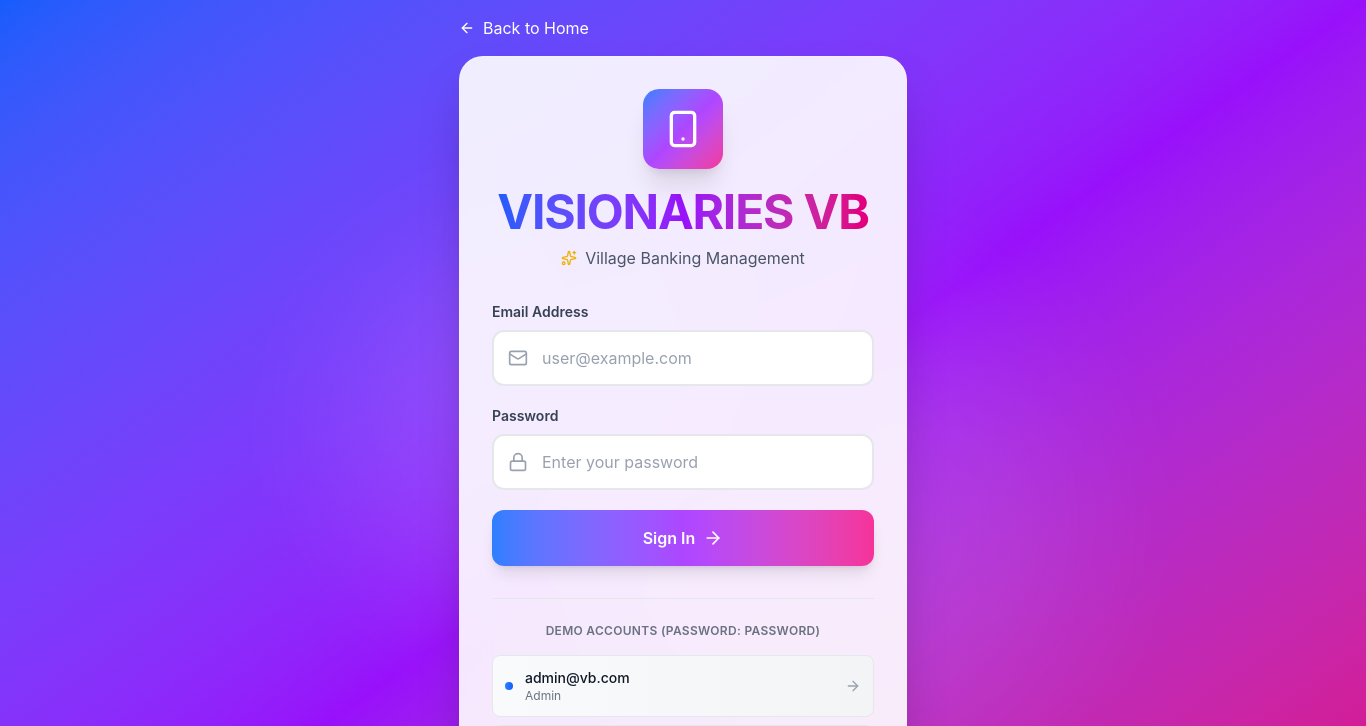
Test: Login page › shows loading state while submitting
Type "a@b.com" into the field with placeholder "user@example.com" at x=683, y=358, box [492, 330, 874, 386]
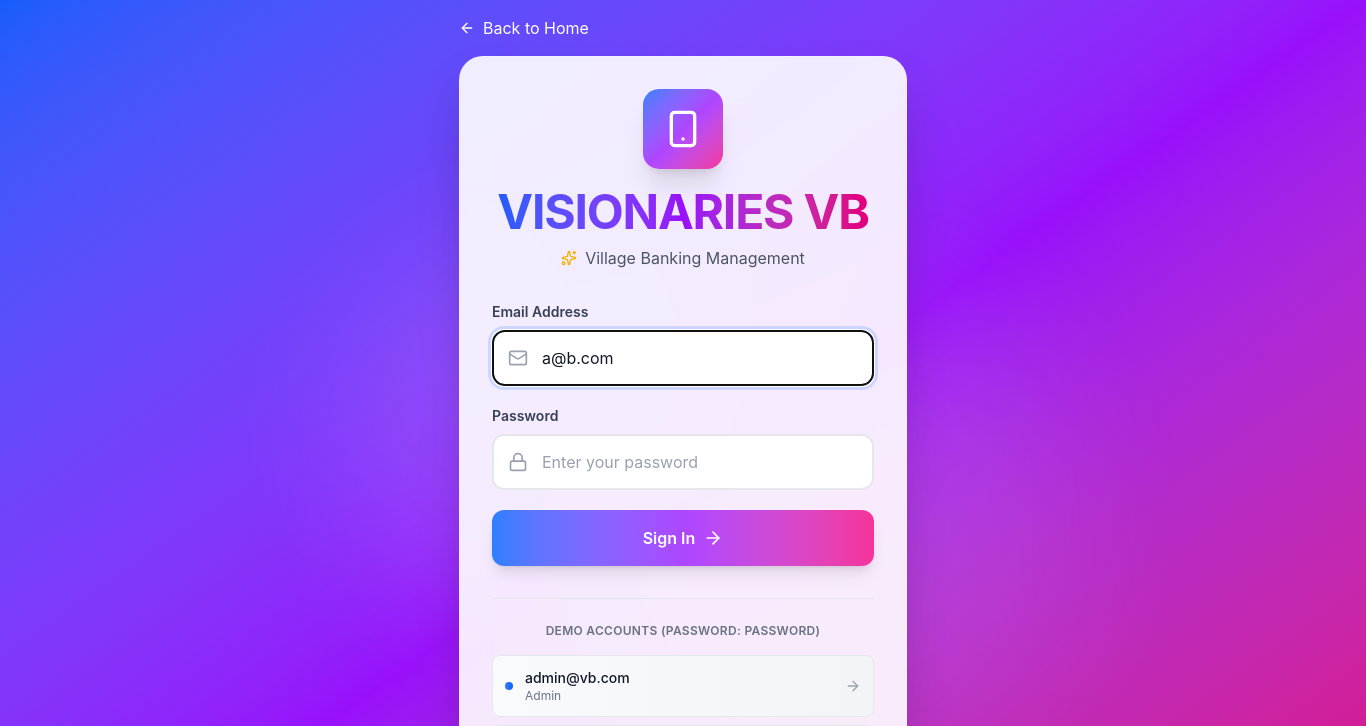
Type "pass1234" into the password field with placeholder "Enter your password" at x=683, y=462, box [492, 434, 874, 490]
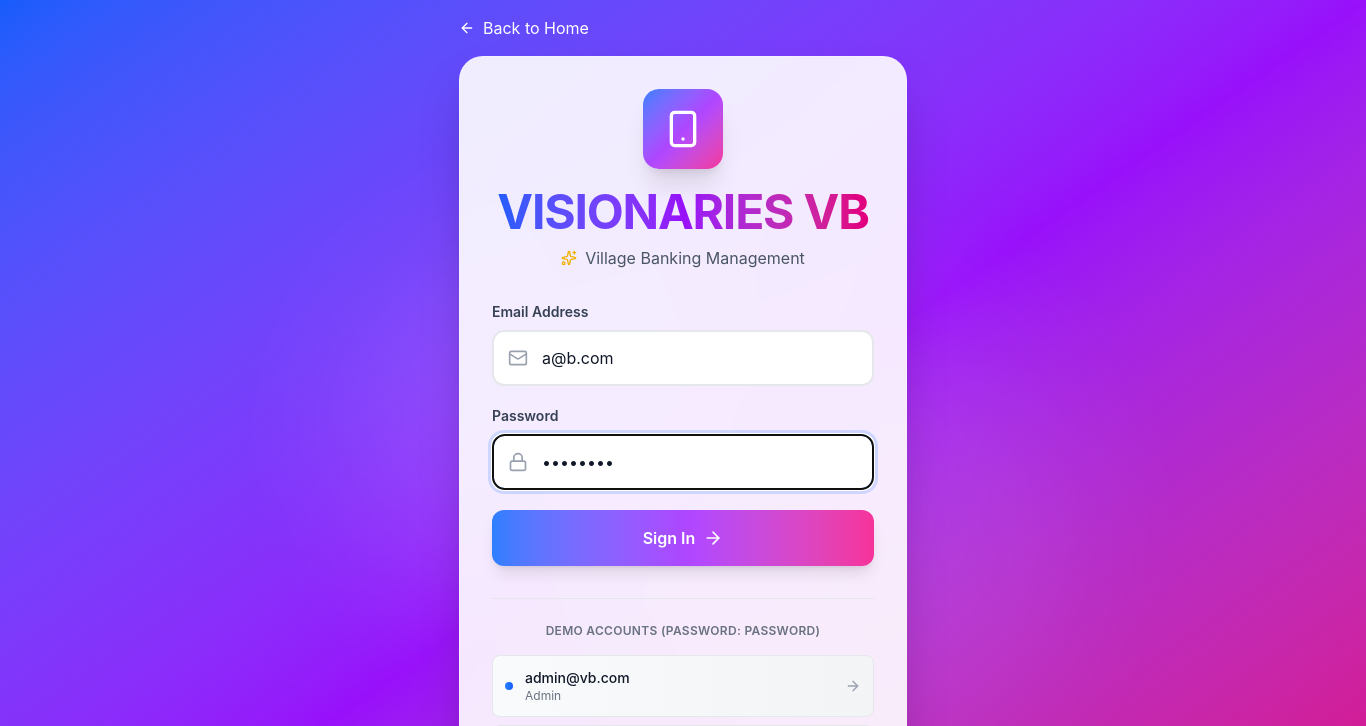
Click the button "Sign In" at x=683, y=538, box [492, 510, 874, 566]
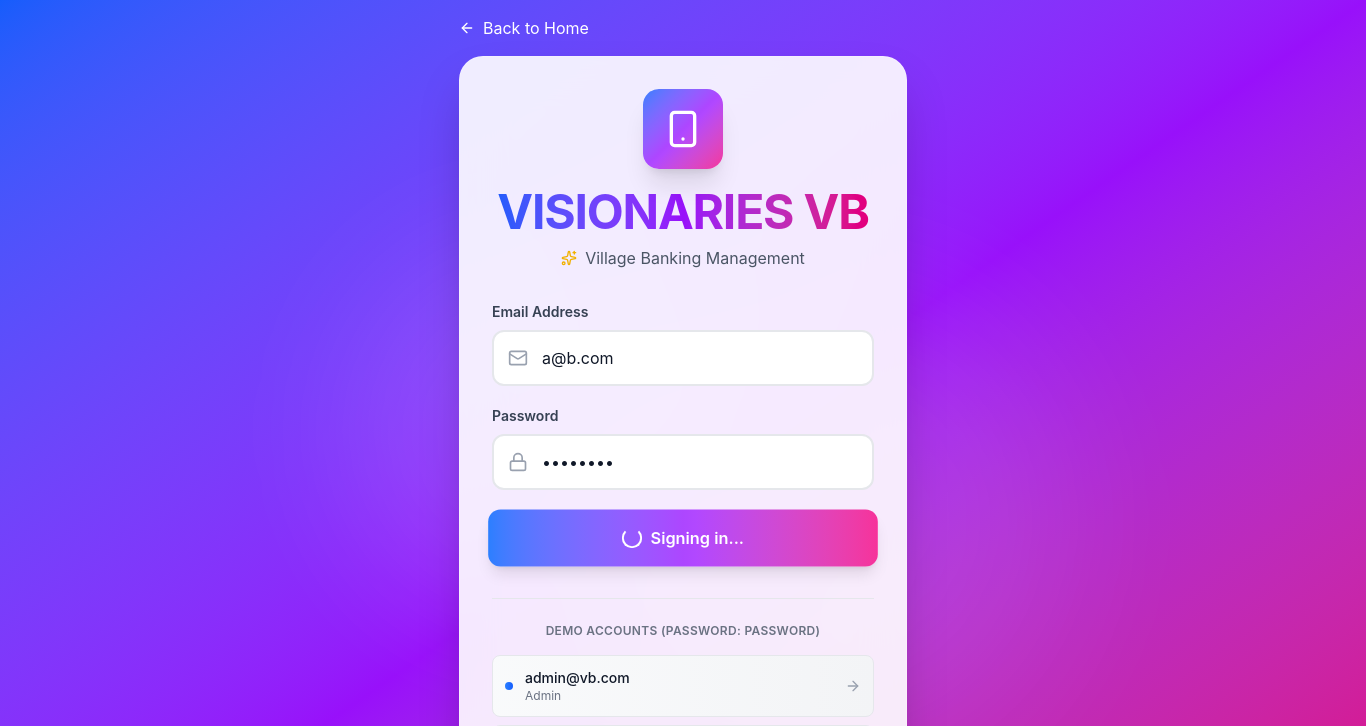
Check: the button "Signing in..." is shown, box [488, 510, 878, 567]
